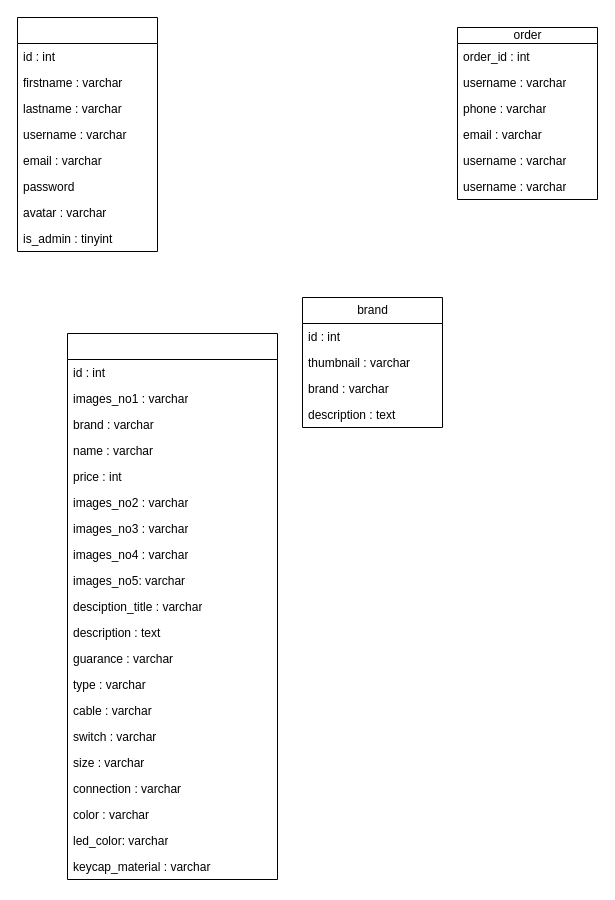
This 615x900 diagram has some shape labels left out. Here are the shapes that lost their labels. From the top down, the box of each, then its label:
(16, 16, 158, 252): users
(66, 332, 278, 880): products
